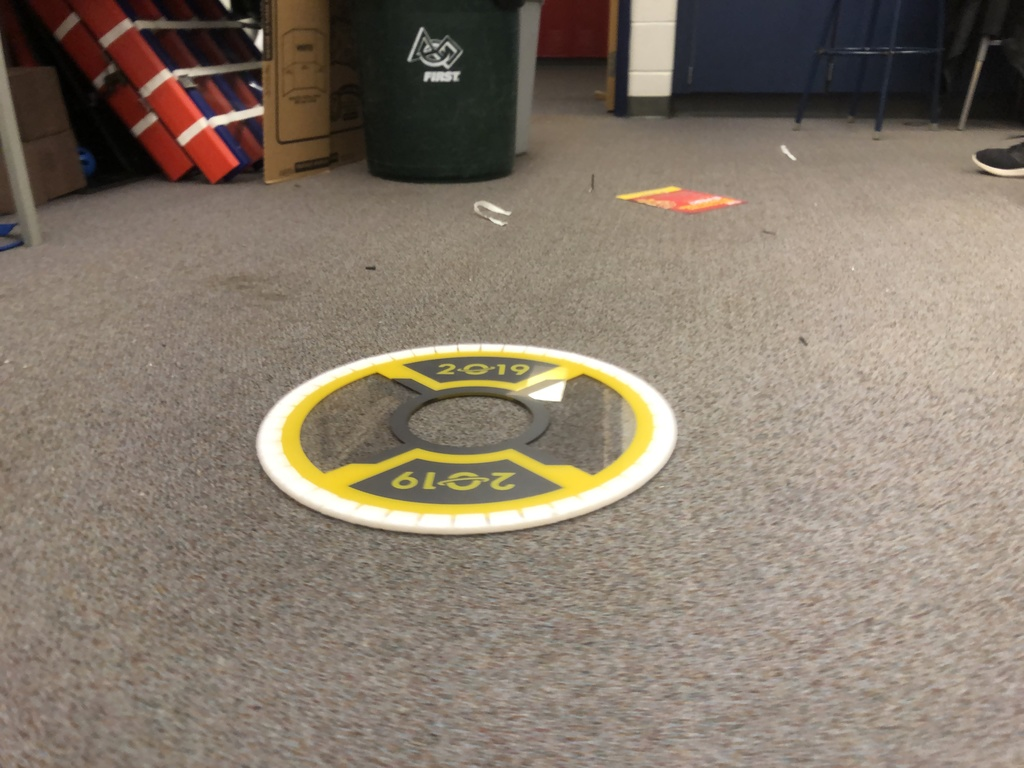hatch_panel: (250, 336, 689, 538)
